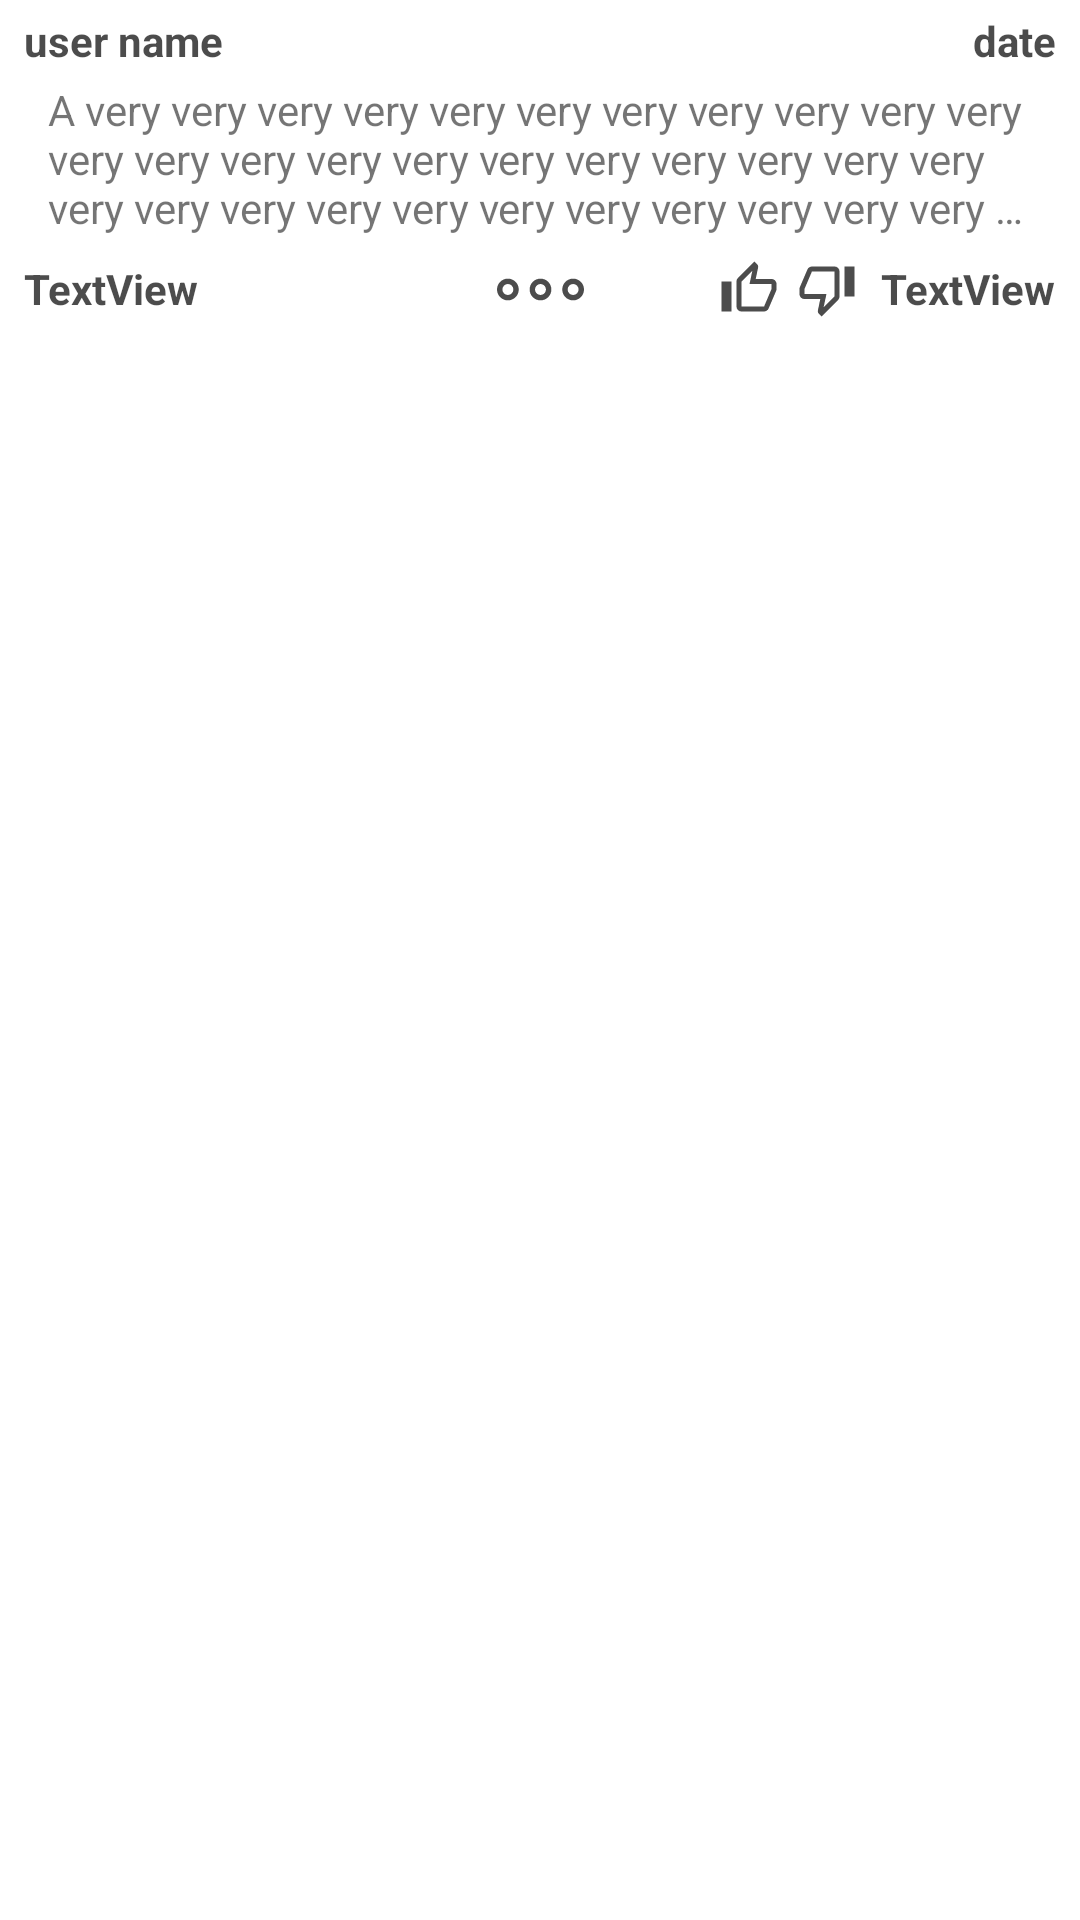

Icons on this 1080w x 1920h Android screen, each with the point to tap as (x,y):
more: (540,289)
thumb down: (827,291)
thumb up: (749,286)
